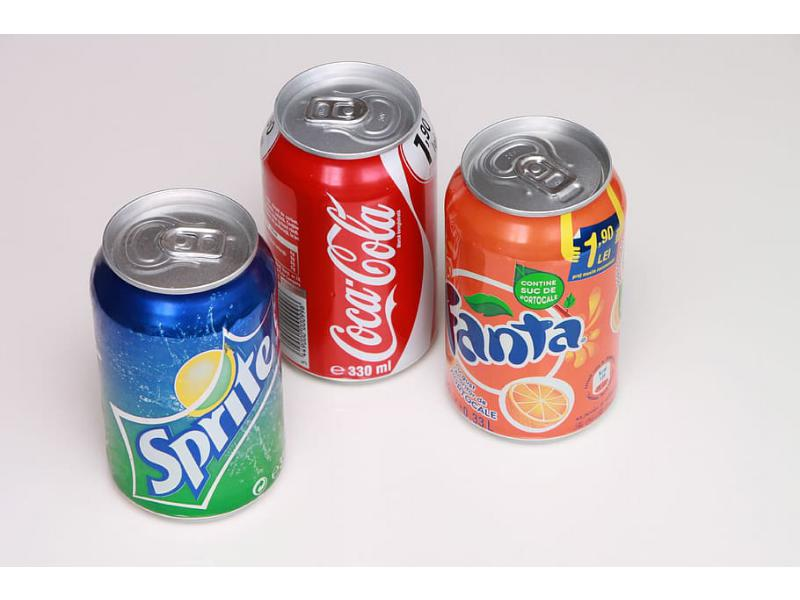can: (88, 184, 291, 526), (439, 111, 629, 433), (267, 65, 441, 382)
